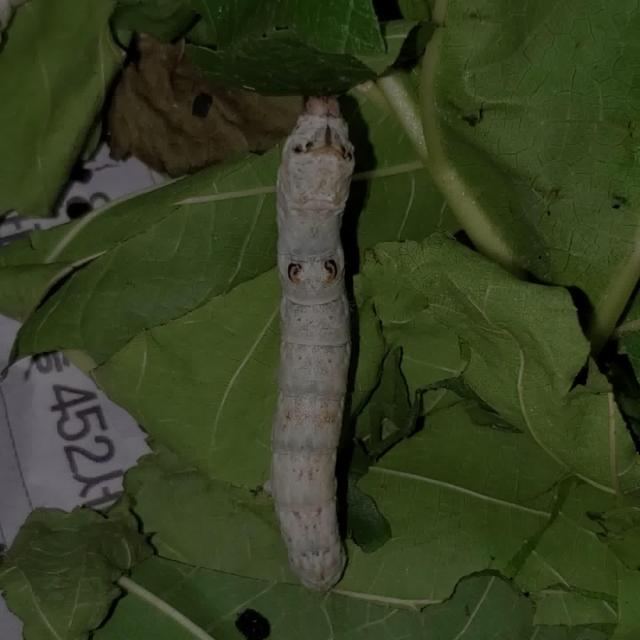Healthy: (217, 74, 390, 611)
